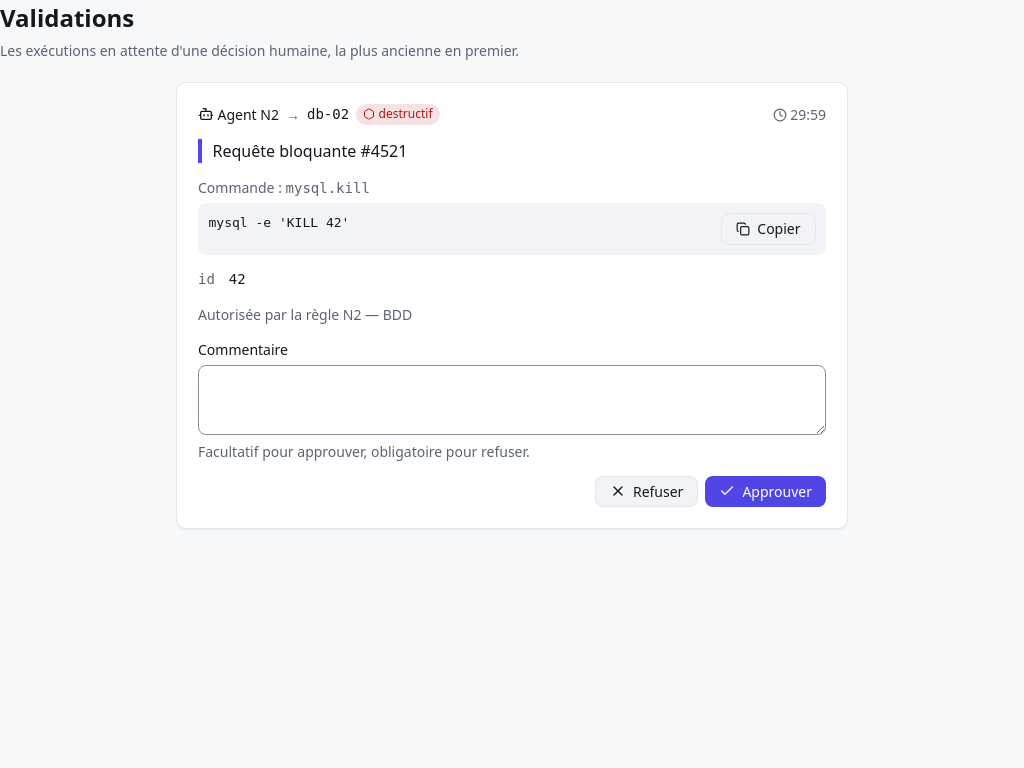
Scenario: validations › montre la raison, la commande rendue et exige le slug pour une commande destructive
Expected: the text "Requête bloquante #4521" is shown, x1=198 y1=139 x2=826 y2=163
Expected: the text "mysql -e 'KILL 42'" is shown, x1=208 y1=215 x2=349 y2=230
Click the button "Approuver". click: (766, 491)
box: x1=705 y1=476 x2=826 y2=507
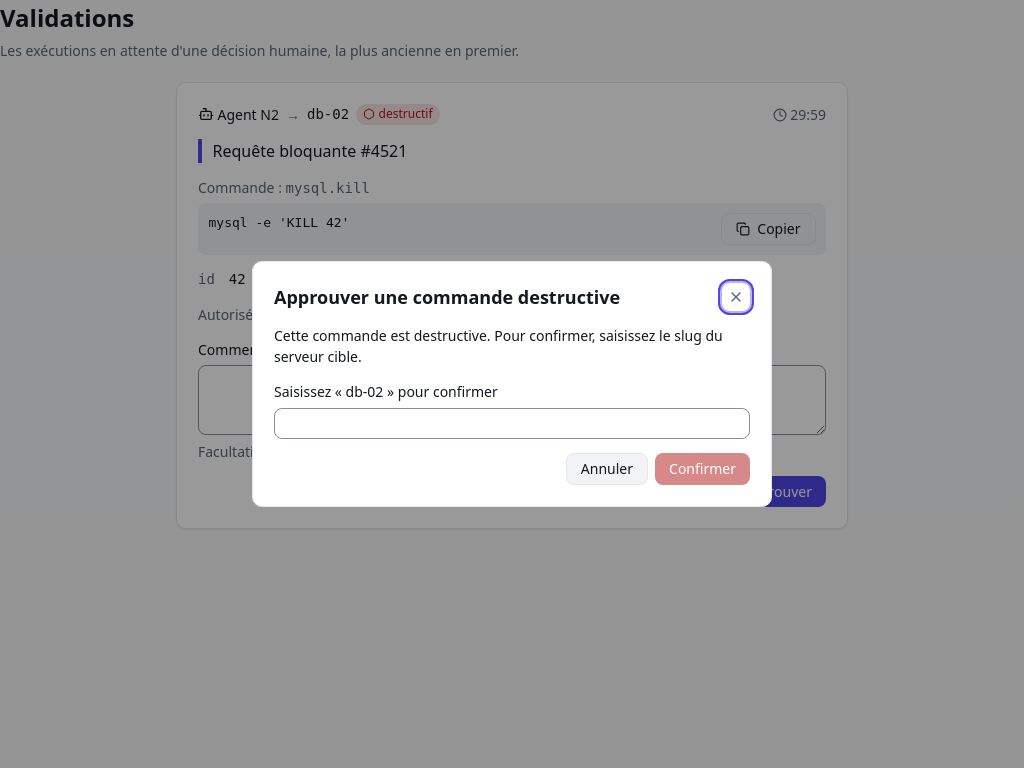
Now the button "Confirmer" is disabled, box x1=655 y1=453 x2=750 y2=485
Type "db-01" into the field labelled "Saisissez « db-02 » pour confirmer". click: (512, 423)
box: x1=274 y1=408 x2=750 y2=439
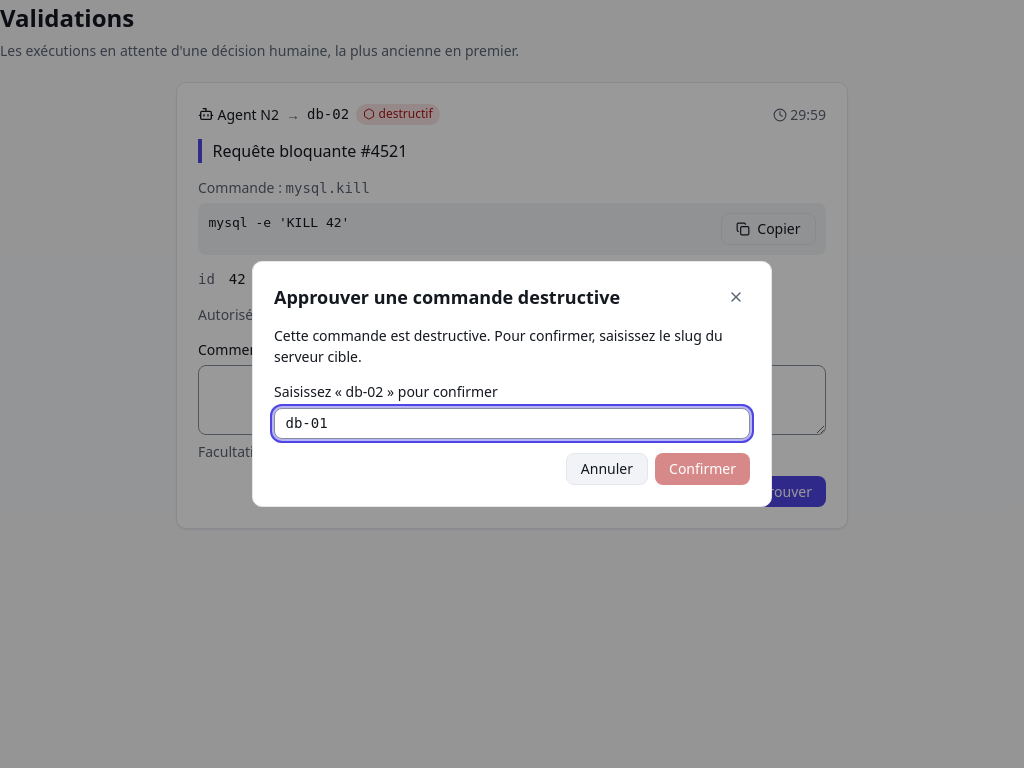
Now the button "Confirmer" is disabled, box x1=655 y1=453 x2=750 y2=485
Replace the text in the field labelled "Saisissez « db-02 » pour confirmer" with "db-02". click: (512, 423)
box: x1=274 y1=408 x2=750 y2=439
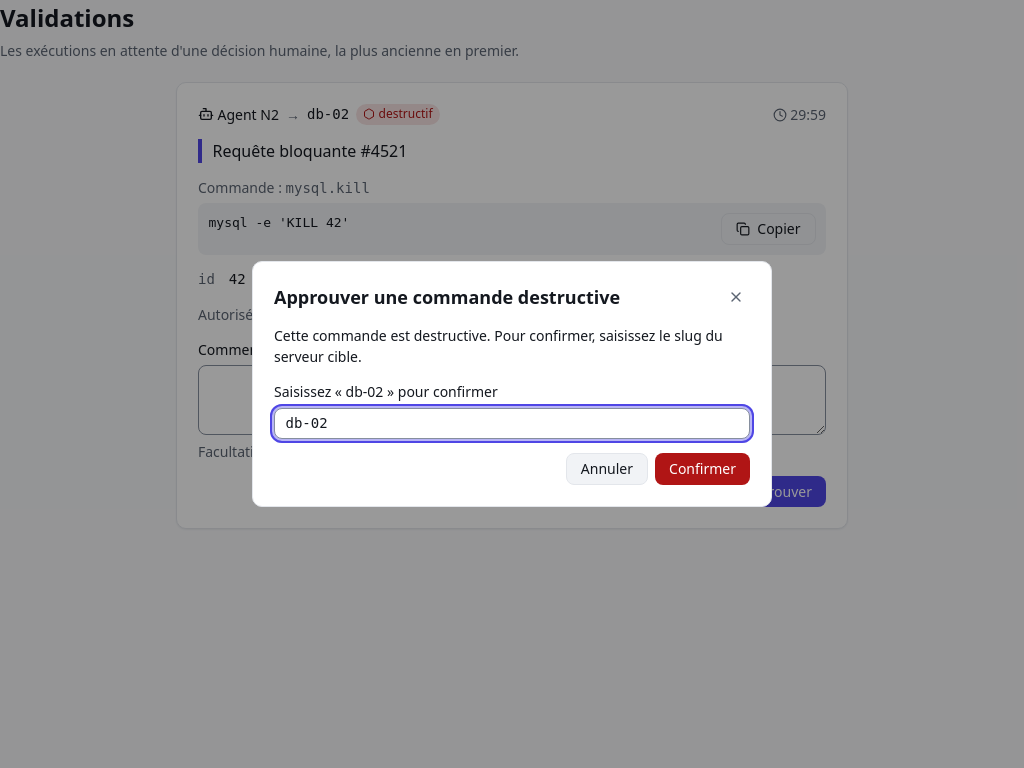
Click the button "Confirmer". click: (702, 469)
box: x1=655 y1=453 x2=750 y2=485
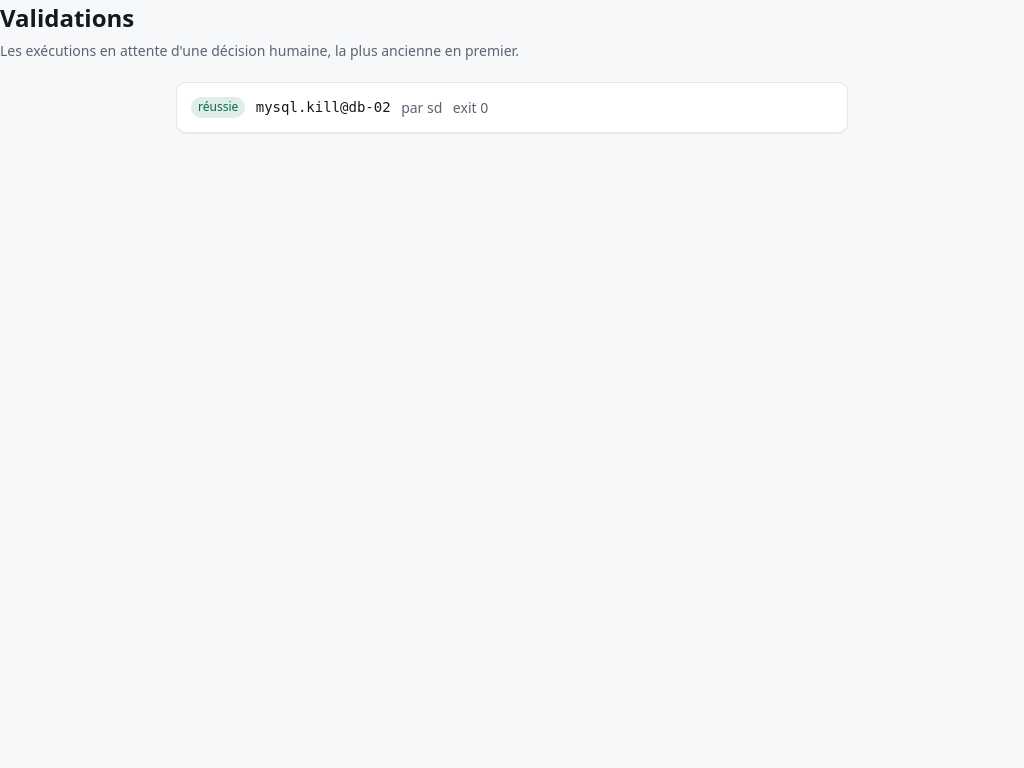
Now the text "réussie" is shown, box x1=191 y1=96 x2=245 y2=118
